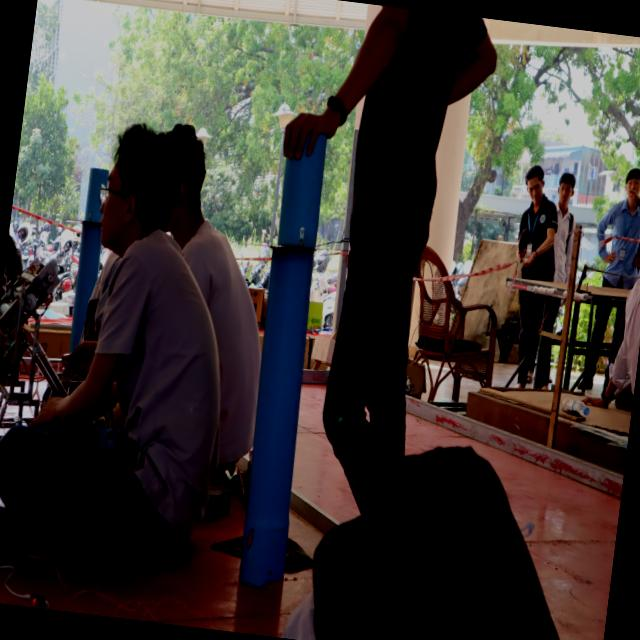pole: (244, 105, 356, 303), (65, 153, 107, 269)
